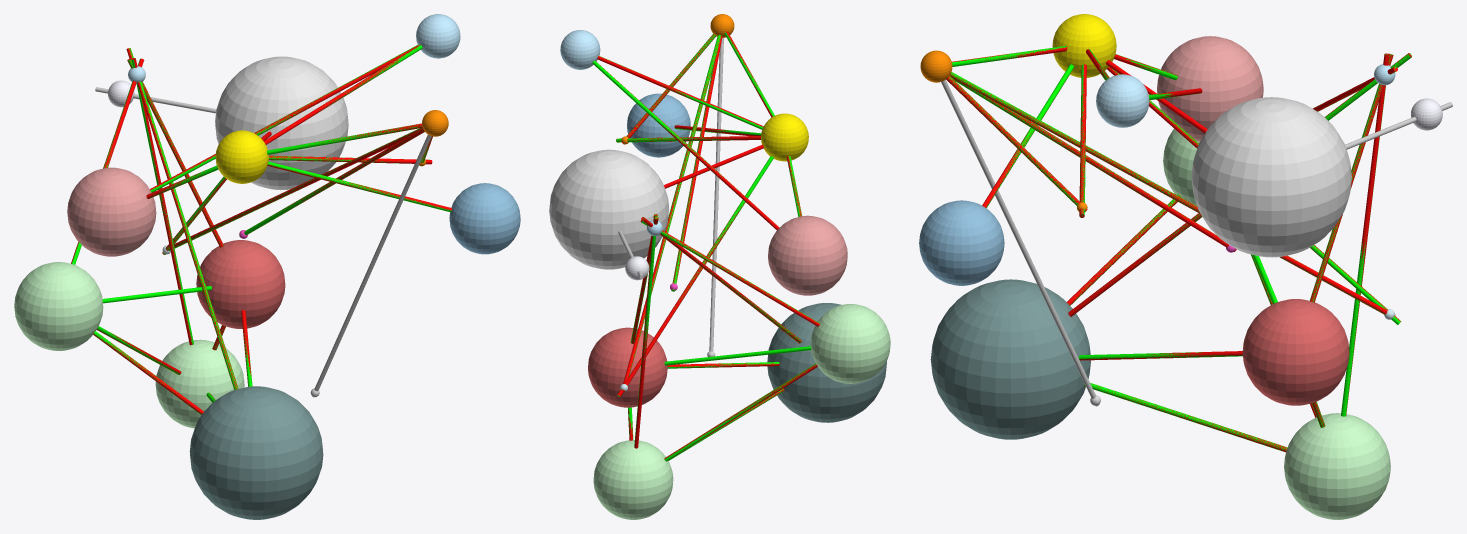
Rendered from emotional-form_Mihael-Ionut.glb.
3 renders of one model, left to right at view 1: azimuth 30°, elevation 25°; view 2: azimuth 150°, elevation 25°; view 3: azimuth 270°, elevation 25°, orthographic. The views are drawn at different scales.
Visible parts, largest first — view 1: blocaj, recompensa, foame, loc-de-munca, eșec, calculator, familia, panificație, Pâinea-proaspată-cu-parizer, neutral_somn_motiv-priori, <_reușită_blocaj, >_blocaj_reușită (+16 smaller); view 2: recompensa, blocaj, loc-de-munca, foame, calculator, eșec, familia, panificație, Pâinea-proaspată-cu-parizer, <_de-ziua-de-mâine_motiv-priori, >_motiv-priori_de-ziua-de-mâine, neutral_somn_motiv-priori (+24 smaller); view 3: recompensa, blocaj, eșec, calculator, loc-de-munca, familia, panificație, Pâinea-proaspată-cu-parizer, <_de-ziua-de-mâine_motiv-priori, foame, neutral_somn_motiv-priori, <_telefon_motiv-priori (+21 smaller).
Part boxes in pixels (x1=…): blocaj: x1=189, y1=386, x2=323, y2=519; recompensa: x1=215, y1=56, x2=348, y2=190; foame: x1=14, y1=262, x2=103, y2=350; loc-de-munca: x1=67, y1=167, x2=156, y2=256; eșec: x1=196, y1=240, x2=285, y2=328; calculator: x1=155, y1=339, x2=244, y2=428; familia: x1=449, y1=183, x2=520, y2=254; panificație: x1=215, y1=130, x2=268, y2=183; Pâinea-proaspată-cu-parizer: x1=416, y1=14, x2=460, y2=58; neutral_somn_motiv-priori: x1=312, y1=135, x2=431, y2=396; <_reușită_blocaj: x1=126, y1=48, x2=238, y2=389; >_blocaj_reușită: x1=129, y1=48, x2=238, y2=389; recompensa: x1=549, y1=149, x2=668, y2=269; blocaj: x1=767, y1=303, x2=886, y2=422; loc-de-munca: x1=768, y1=215, x2=847, y2=295; foame: x1=810, y1=304, x2=890, y2=383; calculator: x1=593, y1=440, x2=673, y2=519; eșec: x1=588, y1=327, x2=667, y2=407; familia: x1=627, y1=93, x2=690, y2=157; panificație: x1=761, y1=113, x2=808, y2=161; Pâinea-proaspată-cu-parizer: x1=560, y1=30, x2=600, y2=69; <_de-ziua-de-mâine_motiv-priori: x1=622, y1=35, x2=720, y2=392; >_motiv-priori_de-ziua-de-mâine: x1=622, y1=35, x2=720, y2=390; neutral_somn_motiv-priori: x1=709, y1=46, x2=723, y2=351; recompensa: x1=1191, y1=97, x2=1351, y2=257; blocaj: x1=930, y1=279, x2=1090, y2=439; eșec: x1=1242, y1=299, x2=1349, y2=405; calculator: x1=1284, y1=413, x2=1390, y2=519; loc-de-munca: x1=1157, y1=36, x2=1263, y2=141; familia: x1=919, y1=200, x2=1004, y2=285; panificație: x1=1052, y1=14, x2=1116, y2=77; Pâinea-proaspată-cu-parizer: x1=1096, y1=74, x2=1149, y2=127; <_de-ziua-de-mâine_motiv-priori: x1=950, y1=73, x2=1395, y2=315; foame: x1=1163, y1=129, x2=1199, y2=205; neutral_somn_motiv-priori: x1=941, y1=80, x2=1099, y2=404; <_telefon_motiv-priori: x1=956, y1=81, x2=1236, y2=251.
Bounding box in the file's own units: 103 × 108 × 99.81.
